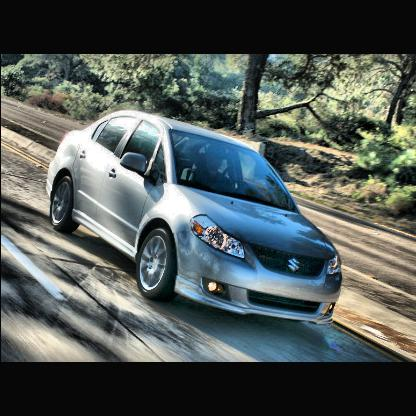Suzuki SX4 Sedan 2012: (45, 108, 344, 329)
